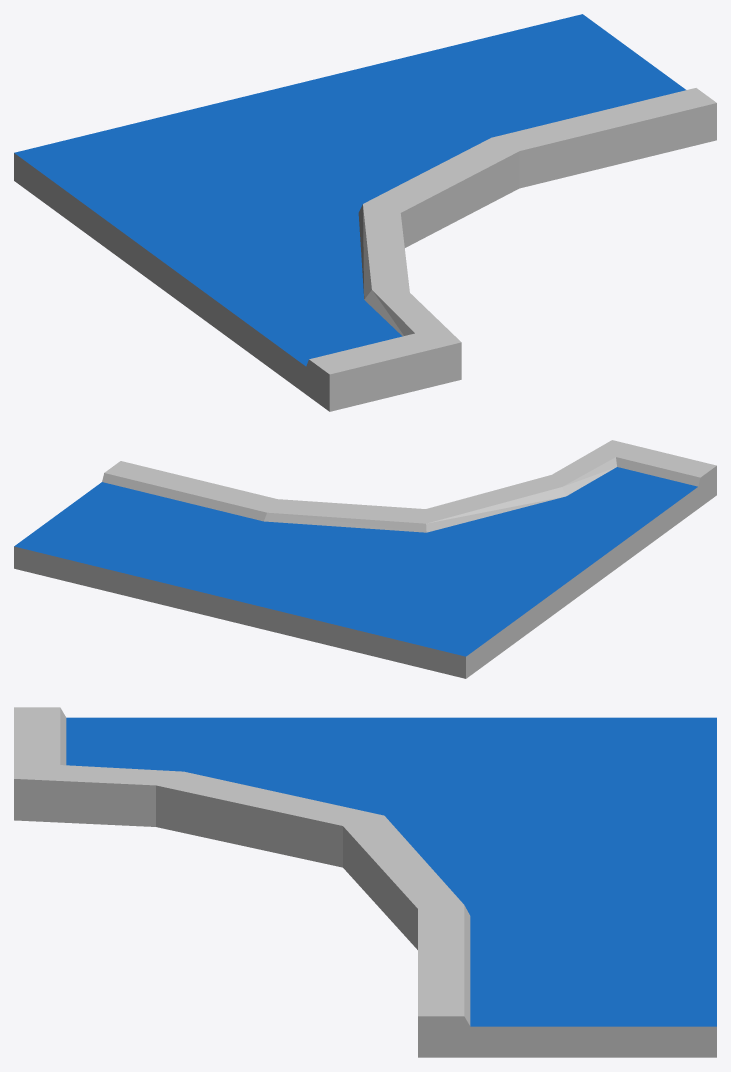
Rendered from SM_sidewalk_2.fbx.
3 views of the same model, one above another, from view 1: azimuth 30°, elevation 25°; view 2: azimuth 150°, elevation 25°; view 3: azimuth 270°, elevation 25° (orthographic). The views are drawn at different scales.
Parts seen in each view (by area): view 1: Cube_26; view 2: Cube_26; view 3: Cube_26.
Part boxes in pixels (<box>): Cube_26: <box>14,14,716,411</box>; Cube_26: <box>14,440,716,678</box>; Cube_26: <box>14,707,716,1057</box>.
Size of the model in its own units: 250 by 15.7 by 240.
